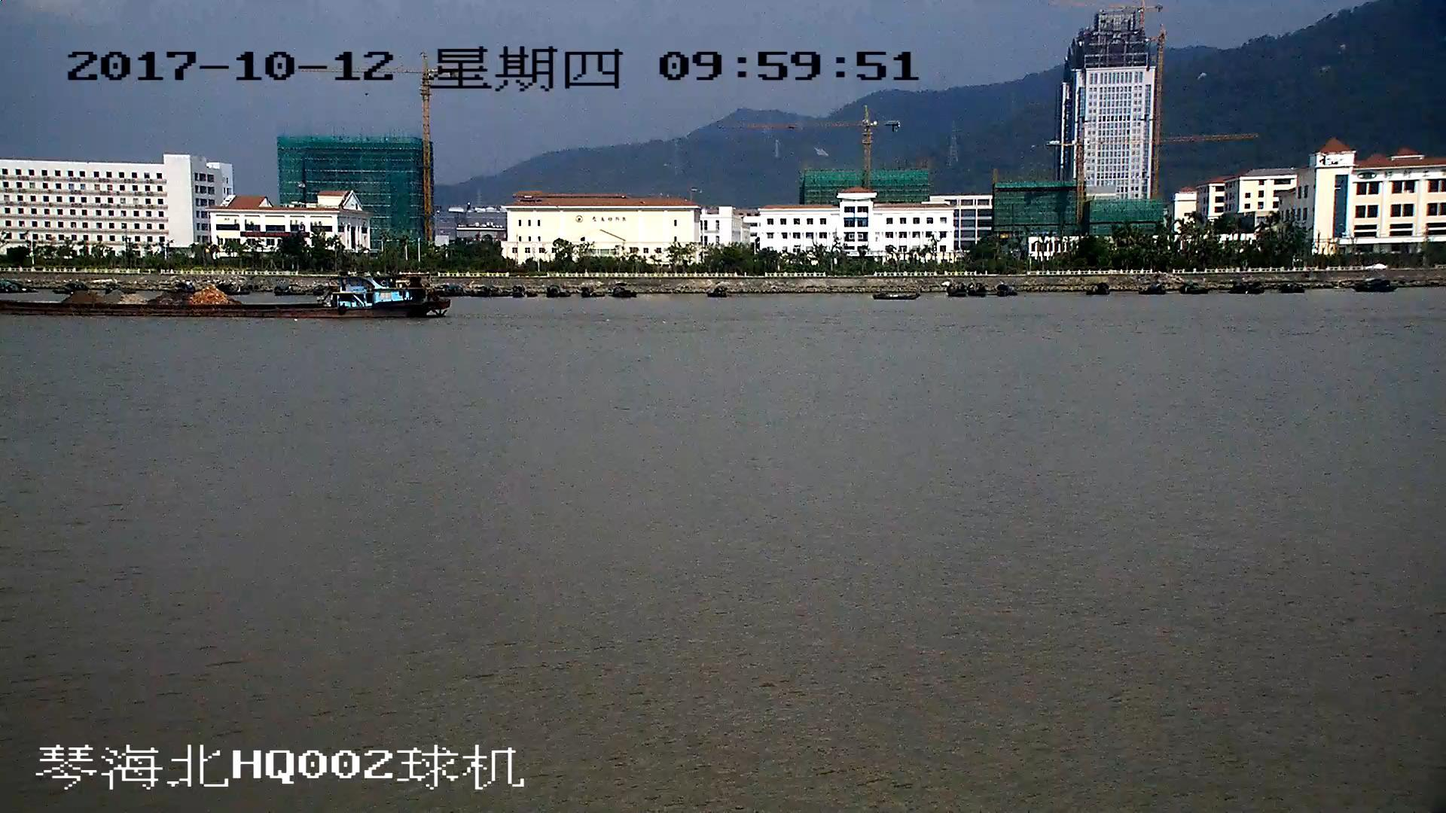ore carrier: (0, 264, 450, 316)
